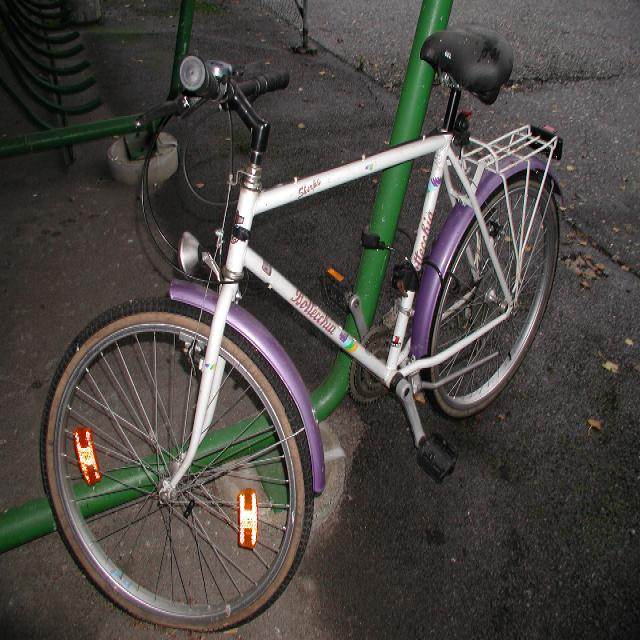bicycle: (38, 24, 563, 632)
